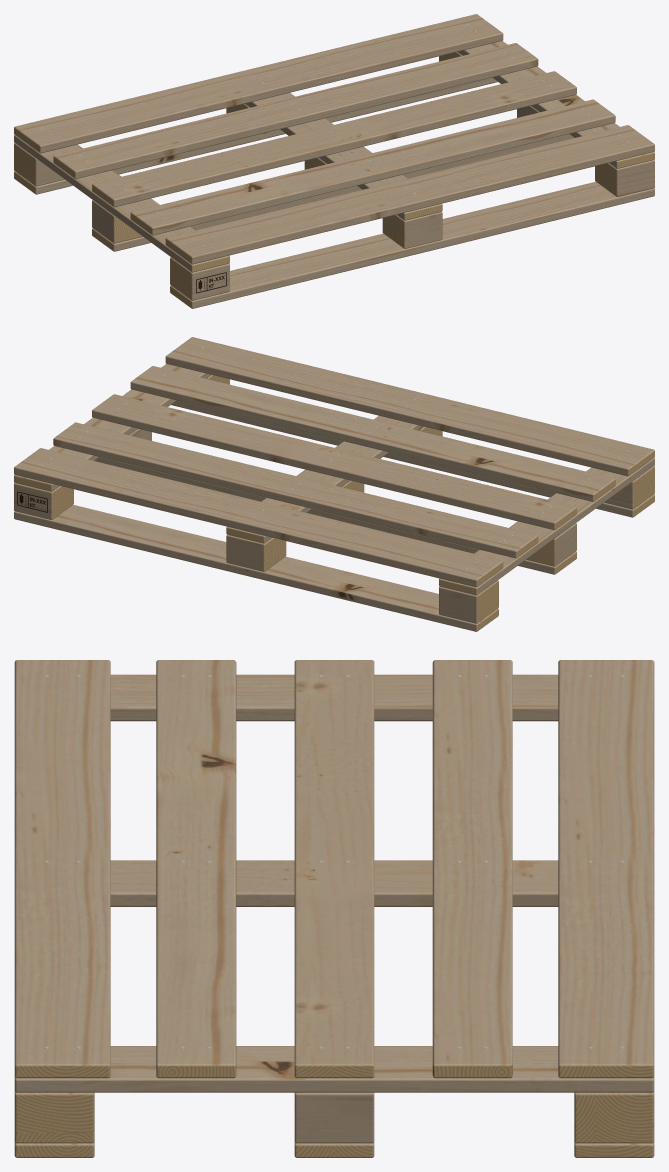
The model's file is pw01-pinewood-pallet-800x1200.glb.
The picture shows the model from 3 angles, top to bottom: view 1: azimuth 30°, elevation 25°; view 2: azimuth 150°, elevation 25°; view 3: azimuth 270°, elevation 25°; orthographic projection. The views are drawn at different scales.
Visible parts, largest first — view 1: pw01-pinewood-pallet-800x1200; view 2: pw01-pinewood-pallet-800x1200; view 3: pw01-pinewood-pallet-800x1200.
Part boxes in pixels (<box>): pw01-pinewood-pallet-800x1200: <box>14,14,654,308</box>; pw01-pinewood-pallet-800x1200: <box>14,337,654,631</box>; pw01-pinewood-pallet-800x1200: <box>14,660,654,1157</box>.
Size of the model in its own units: 1.2 by 0.1309 by 0.8019.
Materials: 4 (3 with a texture image).
